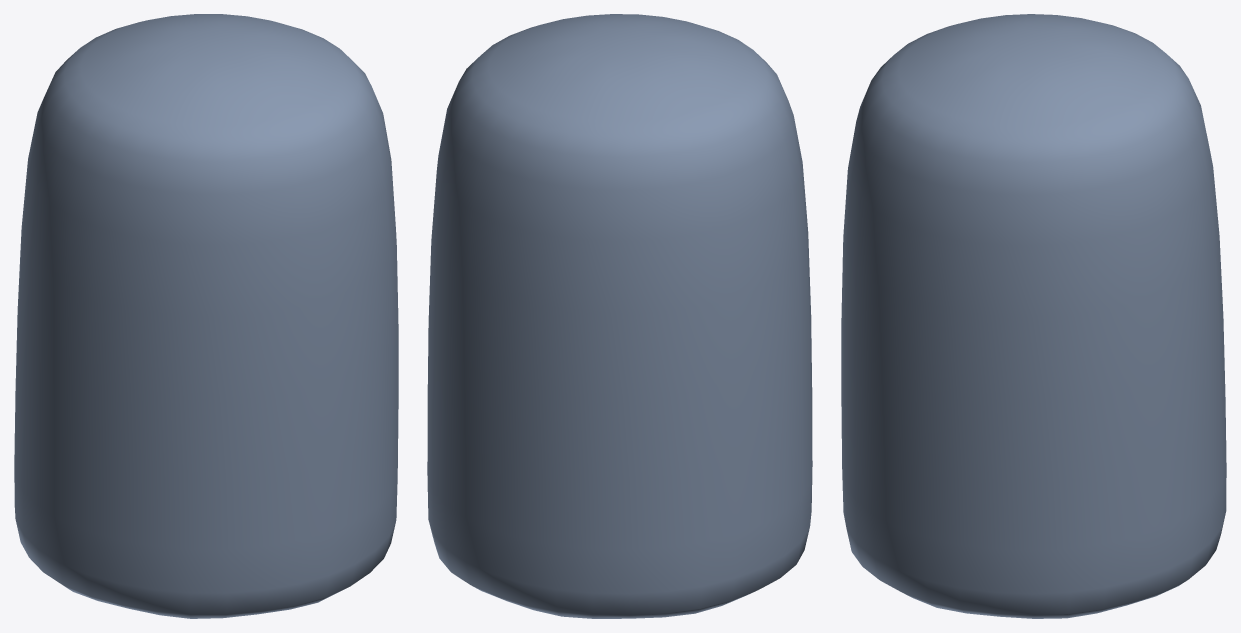
The picture shows the model from 3 angles, left to right: view 1: azimuth 30°, elevation 25°; view 2: azimuth 150°, elevation 25°; view 3: azimuth 270°, elevation 25°; orthographic projection.
Parts seen in each view (by area): view 1: Cylinder.007; view 2: Cylinder.007; view 3: Cylinder.007.
Part boxes in pixels (bbox=[...]): Cylinder.007: bbox=[14, 14, 398, 618]; Cylinder.007: bbox=[427, 14, 812, 618]; Cylinder.007: bbox=[841, 14, 1226, 618].
Bounding box in the file's own units: 0.00393 × 0.00572 × 0.00394.
